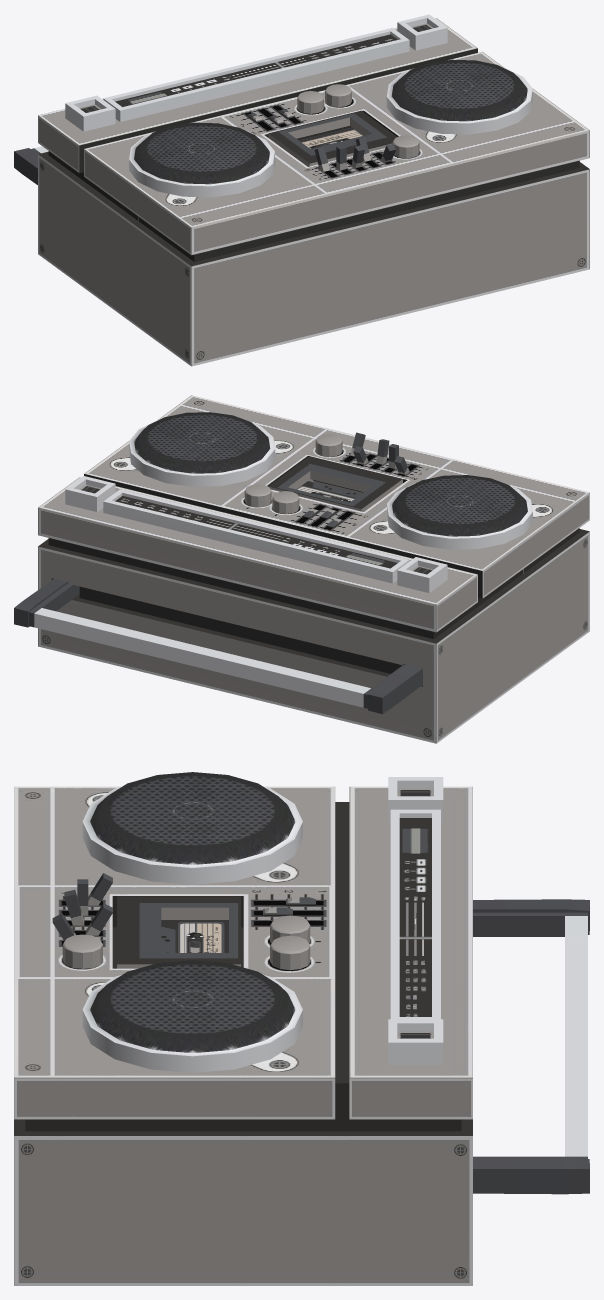
The model's file is boombox.glb.
The picture shows the model from 3 angles, top to bottom: view 1: azimuth 30°, elevation 25°; view 2: azimuth 150°, elevation 25°; view 3: azimuth 270°, elevation 25°; orthographic projection. The views are drawn at different scales.
Parts seen in each view (by area): view 1: Boom_Box1, Cassette1, Switches_4, Grip; view 2: Boom_Box1, Grip, Cassette1, Switches_4; view 3: Boom_Box1, Grip, Cassette1, Switches_4.
Boxes of the visible parts, box(x1,y1,x2,y2) form: Boom_Box1: box(38, 14, 589, 366); Cassette1: box(268, 110, 396, 166); Switches_4: box(314, 137, 395, 171); Grip: box(14, 146, 48, 184); Boom_Box1: box(38, 395, 589, 743); Grip: box(14, 578, 422, 714); Cassette1: box(268, 456, 402, 511); Switches_4: box(350, 432, 409, 474); Boom_Box1: box(14, 772, 472, 1285); Grip: box(473, 899, 589, 1194); Cassette1: box(117, 896, 240, 968); Switches_4: box(52, 873, 112, 940).
Bounding box in the file's own units: 0.1 × 0.0384 × 0.0836.
1 material, 1 textured.
